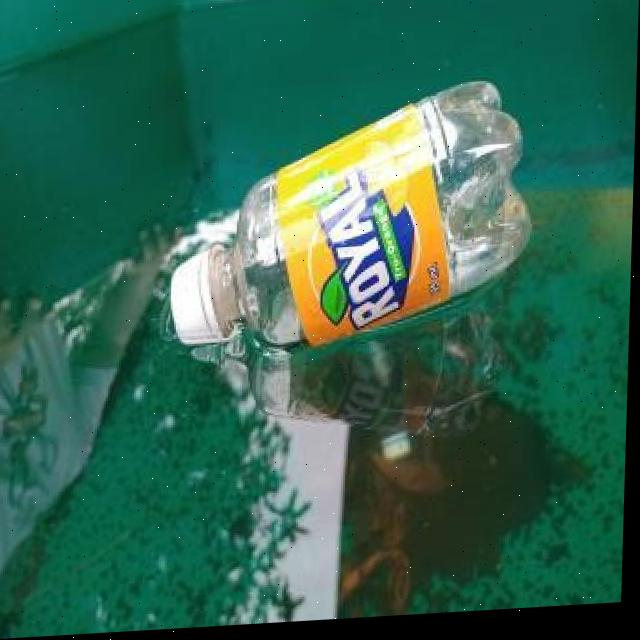bottle: (170, 84, 540, 369)
